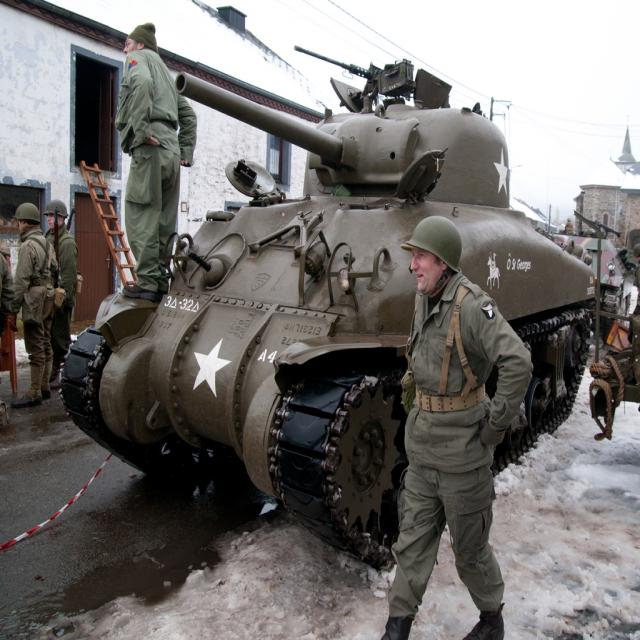tank: (59, 44, 597, 572)
